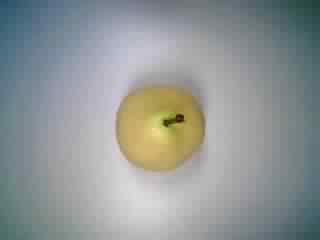pear: (110, 78, 212, 176)
